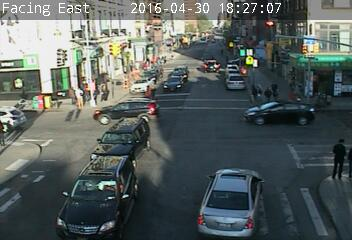neg: (67, 159, 97, 199), (189, 190, 219, 230), (40, 37, 65, 71), (138, 142, 162, 174), (270, 30, 293, 61), (194, 126, 216, 156), (319, 57, 341, 87), (176, 69, 198, 98), (44, 127, 66, 156), (27, 186, 48, 213), (126, 41, 146, 68), (276, 181, 296, 208), (272, 91, 292, 117), (245, 124, 264, 149), (119, 101, 137, 126), (42, 87, 58, 109)
pos: (316, 134, 349, 178)
